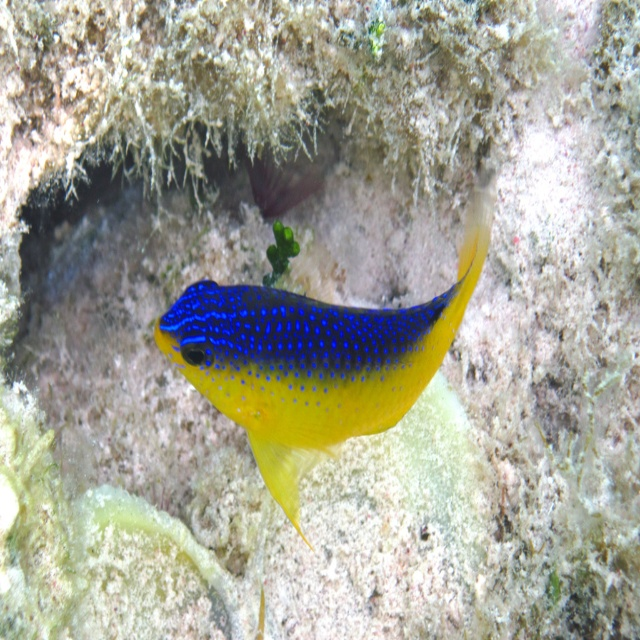Fish: (152, 223, 507, 570)
